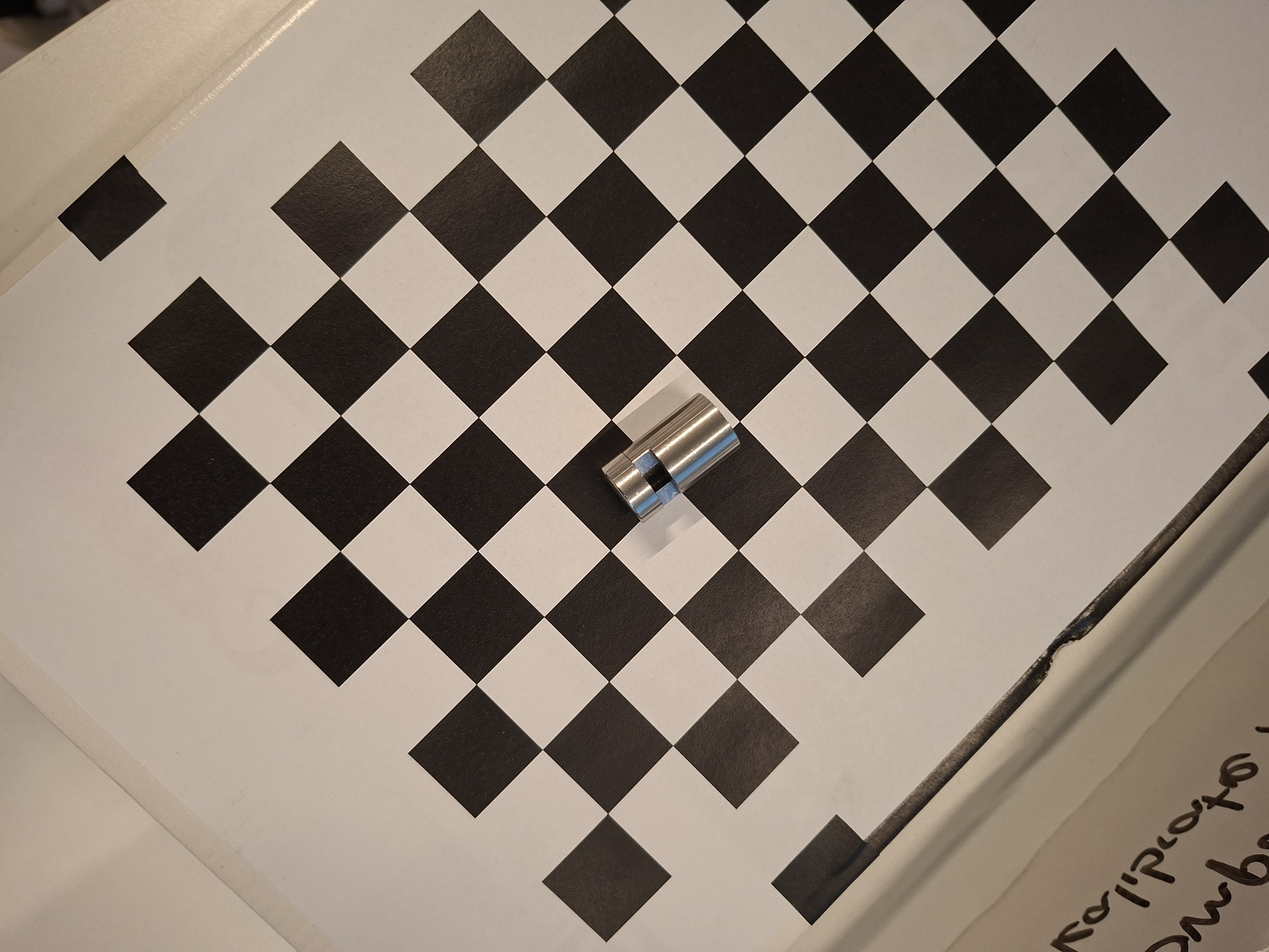barrel_nut: (587, 376, 754, 532)
